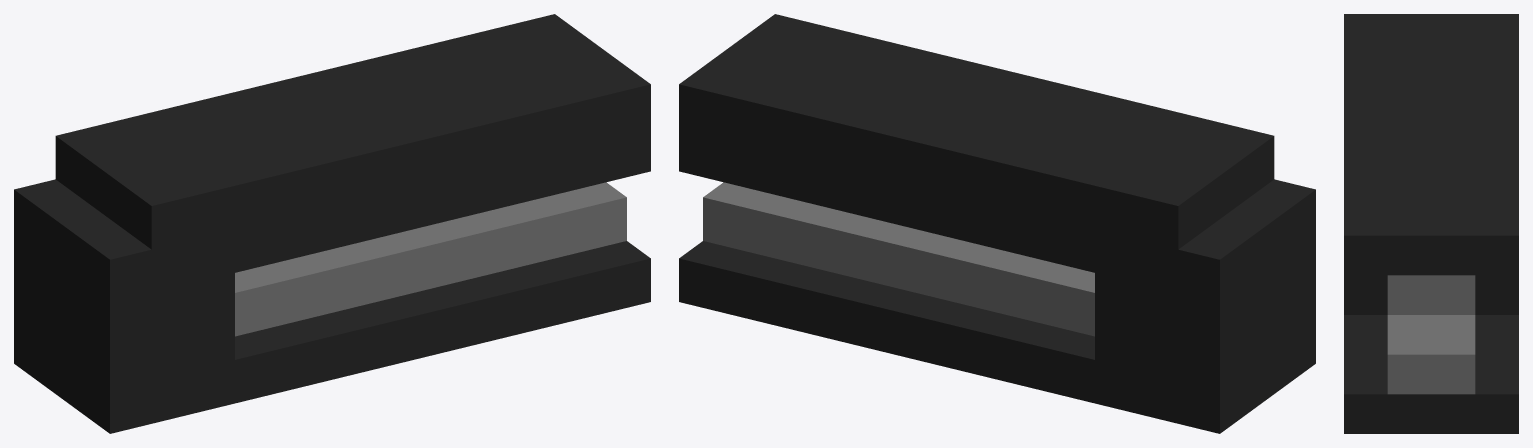
Rendered from SchoolPack-7-stapler.obj.
The picture shows the model from 3 angles, left to right: view 1: azimuth 30°, elevation 25°; view 2: azimuth 150°, elevation 25°; view 3: azimuth 270°, elevation 25°; orthographic projection. The views are drawn at different scales.
Parts seen in each view (by area): view 1: stapler; view 2: stapler; view 3: stapler.
Part boxes in pixels (bbox=[...]): stapler: bbox=[14, 14, 650, 433]; stapler: bbox=[679, 14, 1315, 433]; stapler: bbox=[1344, 14, 1518, 433].
Bounding box in the file's own units: 1.3 × 0.5 × 0.4.
Materials: 1 (1 with a texture image).
